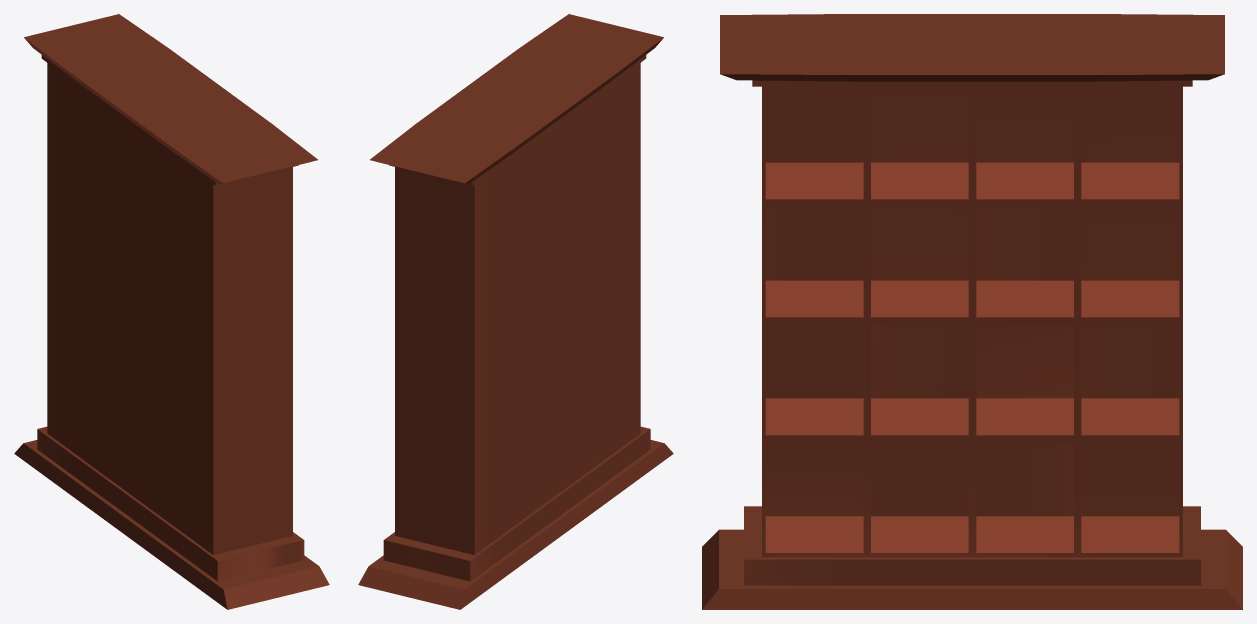
The model's file is BookShelf1.fbx.
3 views of the same model, side by side, from view 1: azimuth 30°, elevation 25°; view 2: azimuth 150°, elevation 25°; view 3: azimuth 270°, elevation 25° (orthographic). The views are drawn at different scales.
Parts seen in each view (by area): view 1: Cube; view 2: Cube; view 3: Cube.
Boxes of the visible parts, x1=… form: Cube: x1=14, y1=14, x2=329, y2=609; Cube: x1=358, y1=14, x2=673, y2=609; Cube: x1=702, y1=14, x2=1242, y2=609.
Size of the model in its own units: 98.96 by 390 by 358.
